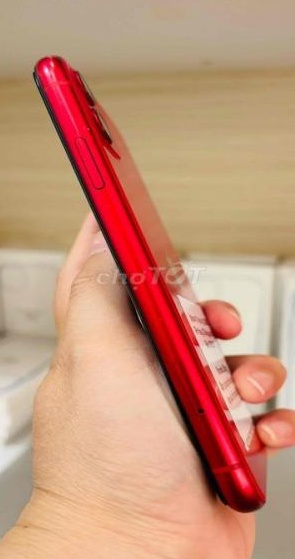scratch: (33, 53, 279, 512)
